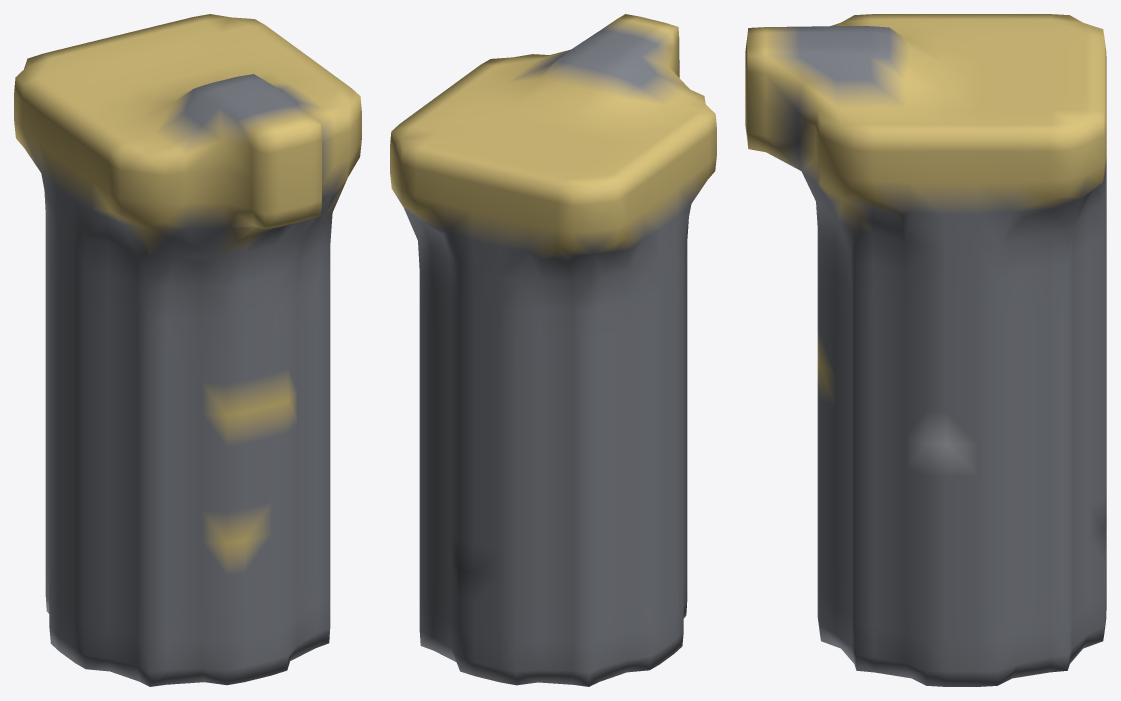
File: plate_epic_boot_shin_L_lod1.glb
The picture shows the model from 3 angles, left to right: view 1: azimuth 30°, elevation 25°; view 2: azimuth 150°, elevation 25°; view 3: azimuth 270°, elevation 25°; orthographic projection. The views are drawn at different scales.
Parts seen in each view (by area): view 1: plate_epic_boot_shin_L_lod1; view 2: plate_epic_boot_shin_L_lod1; view 3: plate_epic_boot_shin_L_lod1.
Boxes of the visible parts, bbox=[...] form: plate_epic_boot_shin_L_lod1: bbox=[14, 14, 361, 686]; plate_epic_boot_shin_L_lod1: bbox=[390, 14, 716, 686]; plate_epic_boot_shin_L_lod1: bbox=[745, 14, 1106, 686].
Bounding box in the file's own units: 0.192 × 0.432 × 0.24.
